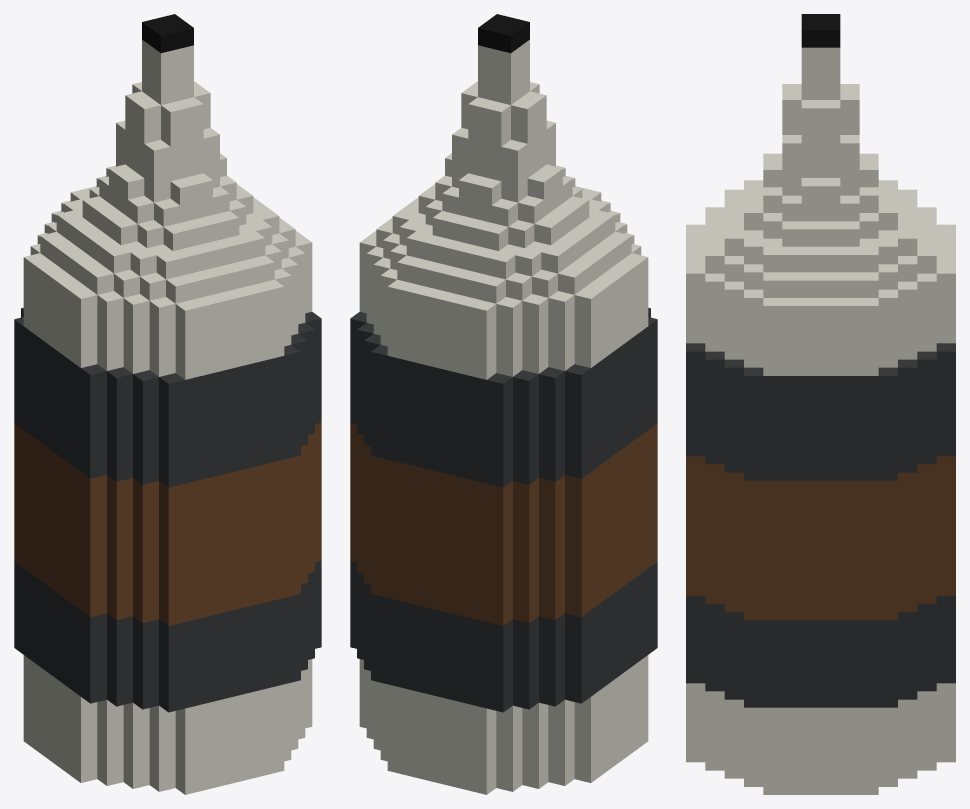
File: hair_dye.glb
3 views of the same model, side by side, from view 1: azimuth 30°, elevation 25°; view 2: azimuth 150°, elevation 25°; view 3: azimuth 270°, elevation 25° (orthographic).
Visible parts, largest first — view 1: hair_dye:compound; view 2: hair_dye:compound; view 3: hair_dye:compound.
Boxes of the visible parts, box(x1,y1,x2,y2) form: hair_dye:compound: box(14, 14, 321, 794); hair_dye:compound: box(350, 14, 657, 794); hair_dye:compound: box(686, 14, 955, 794).
Size of the model in its own units: 0.056 by 0.164 by 0.056.
